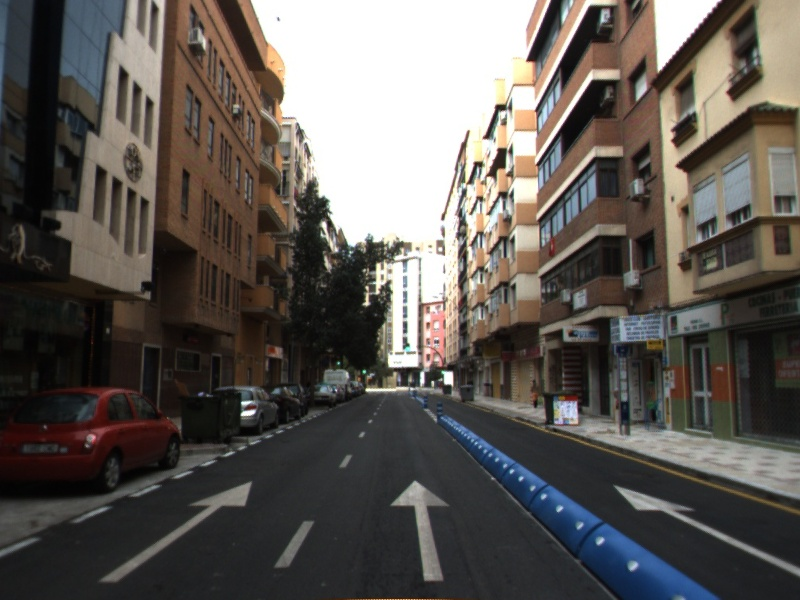STRAIGHT: (611, 483, 800, 578), (97, 479, 254, 585), (388, 478, 452, 583)
